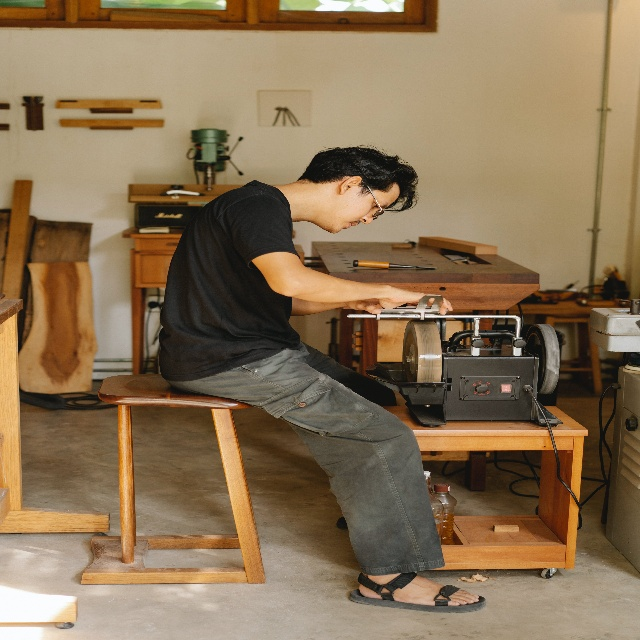Gafas: (363, 181, 384, 220)
Sin_guantes: (379, 285, 452, 316), (345, 299, 382, 315)
